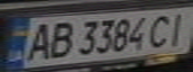3: (75, 17, 100, 56), (93, 16, 118, 54)
4: (127, 13, 154, 51)
8: (112, 16, 136, 53)
A: (21, 19, 57, 62)
B: (42, 19, 75, 60)
C: (145, 11, 178, 48)
I: (163, 9, 193, 46)
